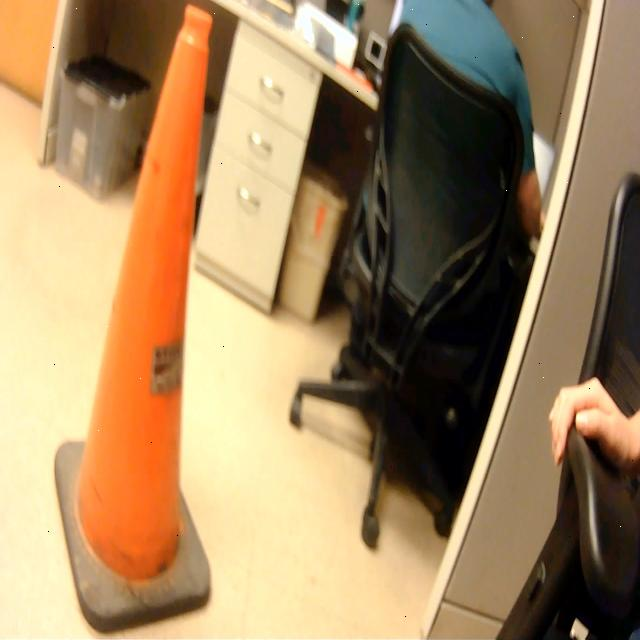traffic cone: (51, 1, 222, 640)
